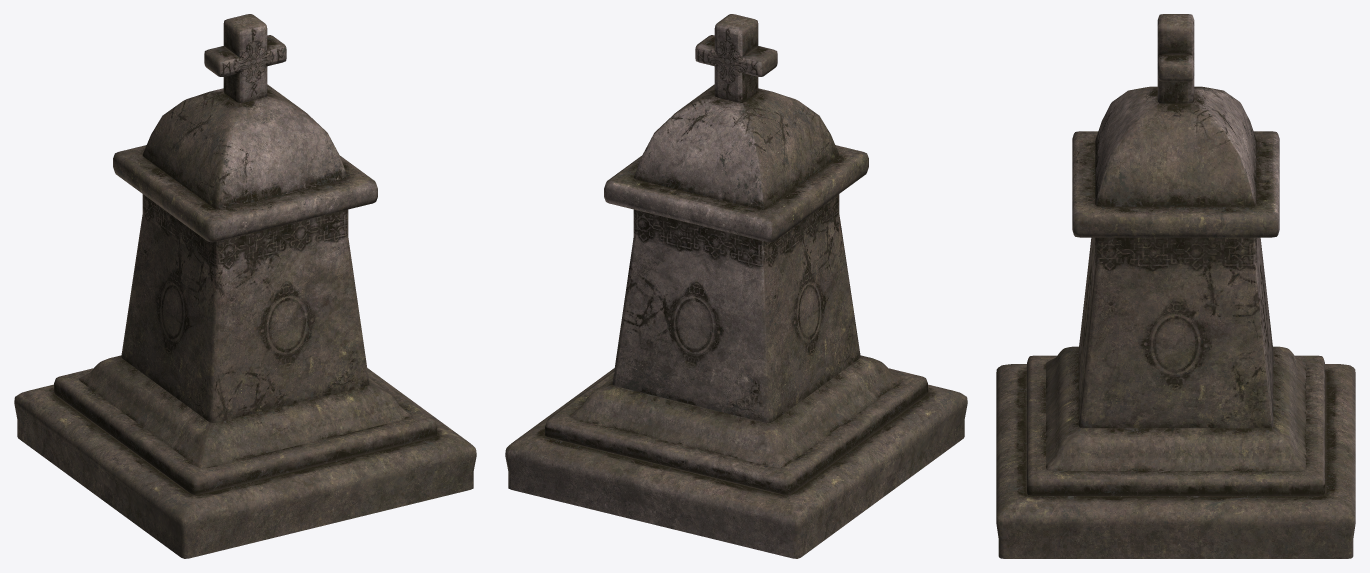
File: SM_gravestone_29.fbx
3 renders of one model, left to right at view 1: azimuth 30°, elevation 25°; view 2: azimuth 150°, elevation 25°; view 3: azimuth 270°, elevation 25°, orthographic. The views are drawn at different scales.
Parts seen in each view (by area): view 1: SM_gravestone_029; view 2: SM_gravestone_029; view 3: SM_gravestone_029.
Part boxes in pixels (box(x1,y1,x2,y2)): SM_gravestone_029: box(14, 14, 476, 558); SM_gravestone_029: box(505, 14, 967, 558); SM_gravestone_029: box(996, 14, 1355, 558).
Bounding box in the file's own units: 79.6 × 114 × 79.7.
